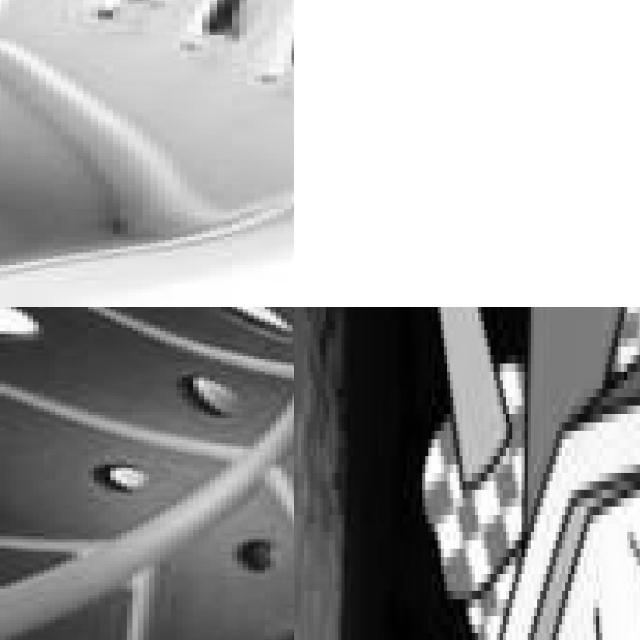forks: (0, 0, 294, 307)
spoons: (0, 307, 294, 640)
